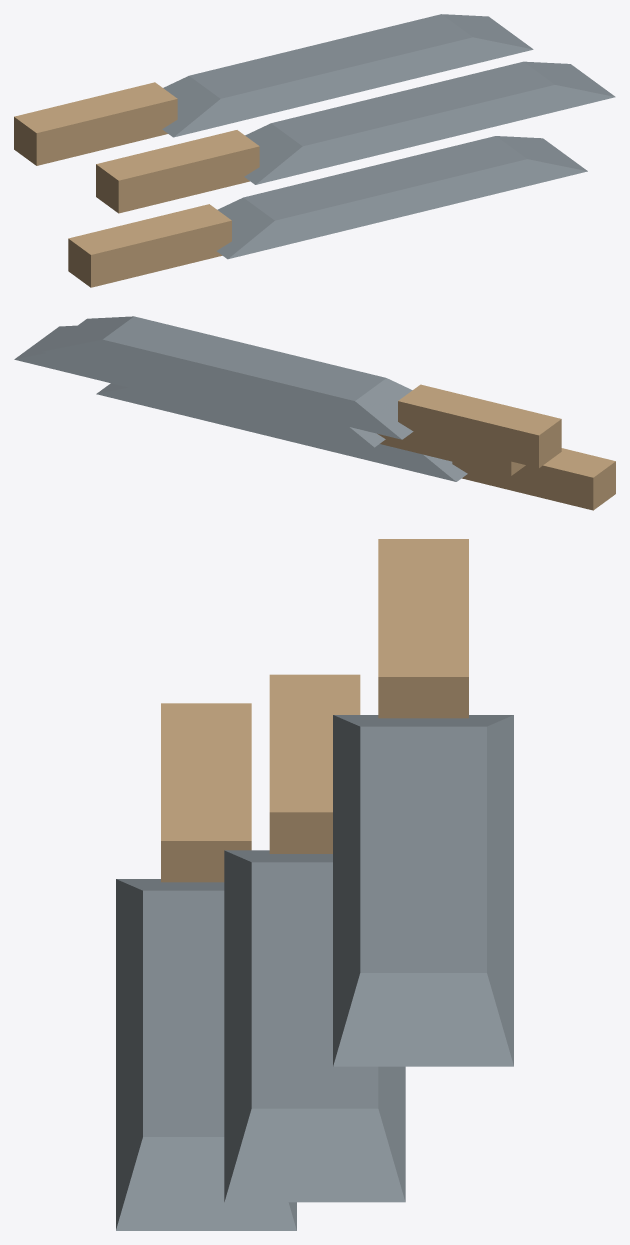
The model's file is item_107_iron_saw_m.glb.
The picture shows the model from 3 angles, top to bottom: view 1: azimuth 30°, elevation 25°; view 2: azimuth 150°, elevation 25°; view 3: azimuth 270°, elevation 25°; orthographic projection. The views are drawn at different scales.
Parts seen in each view (by area): view 1: item_107_iron_saw_m; view 2: item_107_iron_saw_m; view 3: item_107_iron_saw_m.
Boxes of the visible parts, box(x1,y1,x2,y2) form: item_107_iron_saw_m: box(14, 14, 615, 287); item_107_iron_saw_m: box(14, 316, 615, 510); item_107_iron_saw_m: box(116, 539, 513, 1230).
Bounding box in the file's own units: 0.69 × 0.14 × 0.22.
